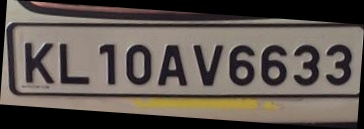character: (155, 41, 188, 88), (58, 40, 92, 85), (191, 41, 223, 88), (23, 39, 55, 84), (226, 42, 256, 87), (323, 42, 353, 87), (258, 43, 288, 87), (292, 43, 320, 87), (124, 43, 152, 86), (98, 41, 115, 86)
